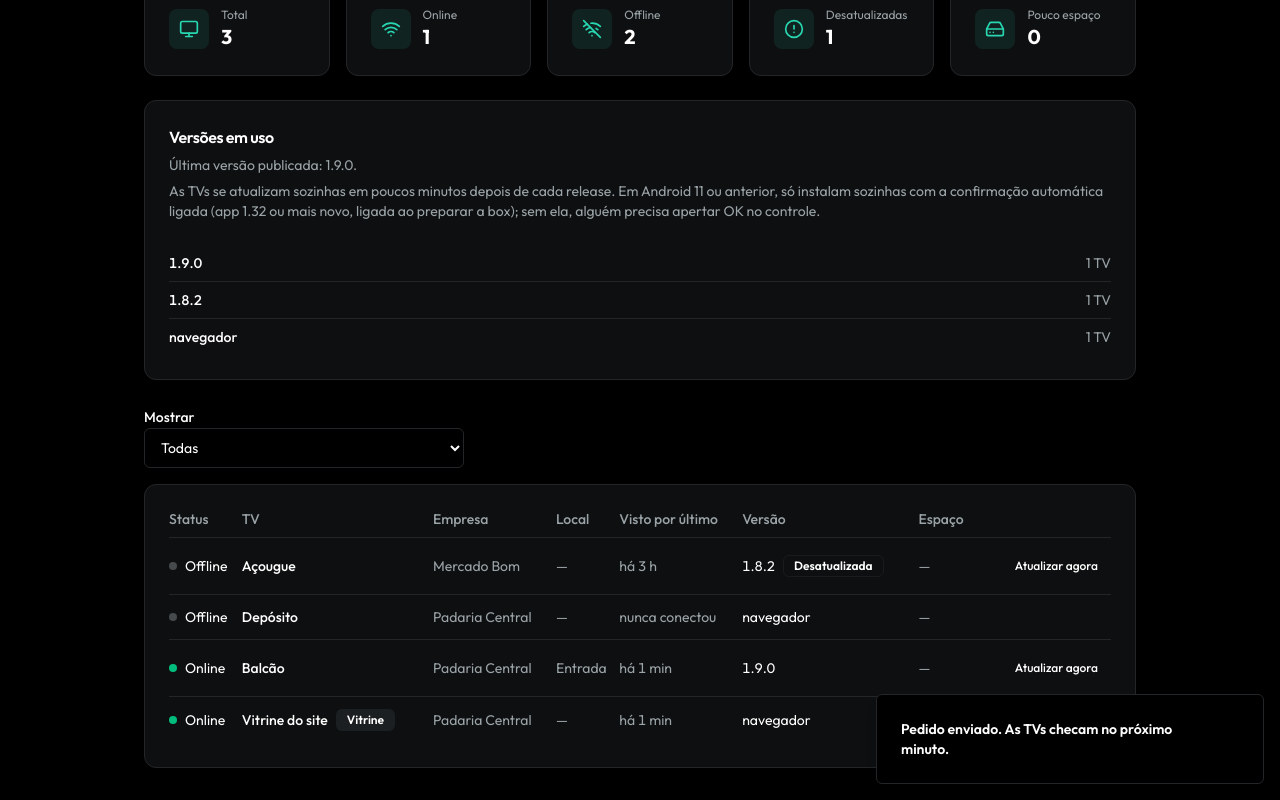
Test case: Parque de TVs › erro no pedido mostra o aviso
The width and height of the screenshot is (1280, 800).
(page scrolled)
Click the button "Atualizar agora" in the row of "Balcão": (1056, 668) [1002,652,1111,684]
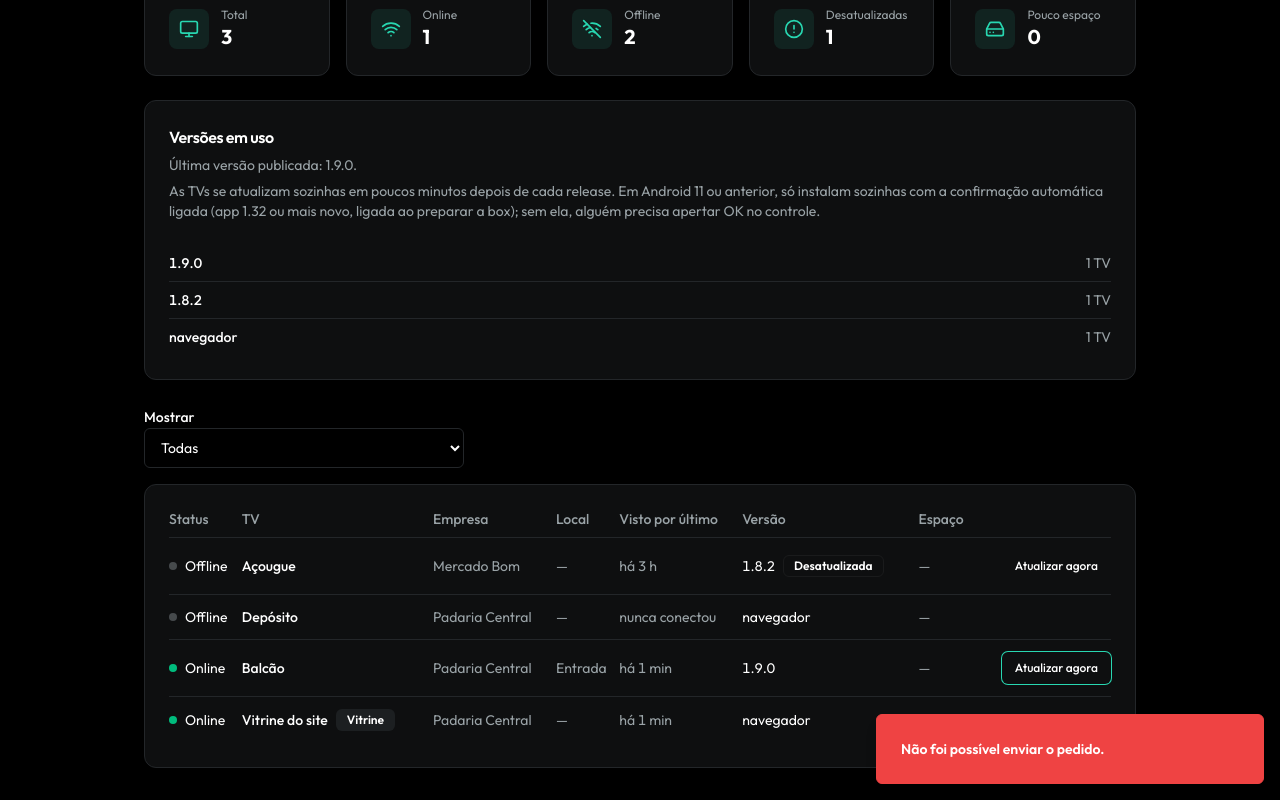
Check: the text "Não foi possível enviar o pedido." is shown, box [901,739,1104,759]
